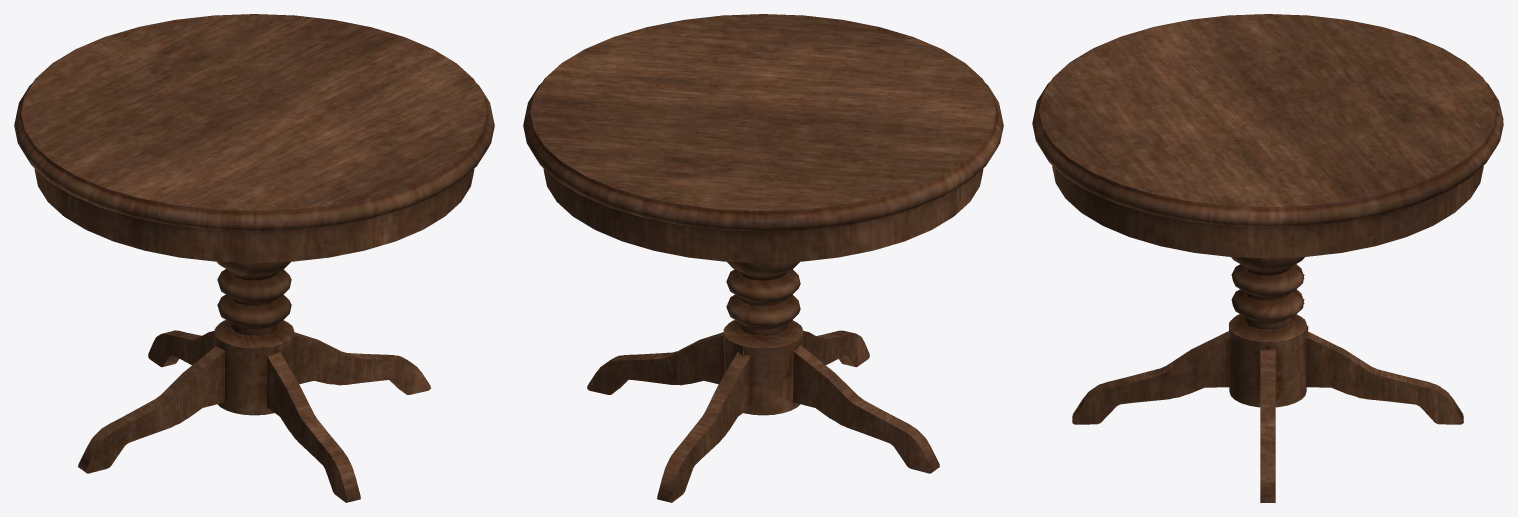
The model's file is table-3.glb.
3 renders of one model, left to right at view 1: azimuth 30°, elevation 25°; view 2: azimuth 150°, elevation 25°; view 3: azimuth 270°, elevation 25°, orthographic.
Visible parts, largest first — view 1: pCylinder6; view 2: pCylinder6; view 3: pCylinder6.
Part boxes in pixels (x1,y1,x2,y2): pCylinder6: [14, 14, 494, 502]; pCylinder6: [523, 14, 1003, 502]; pCylinder6: [1032, 14, 1503, 502].
Bounding box in the file's own units: 4.54 × 3.3 × 4.53.
1 material, 1 textured.
